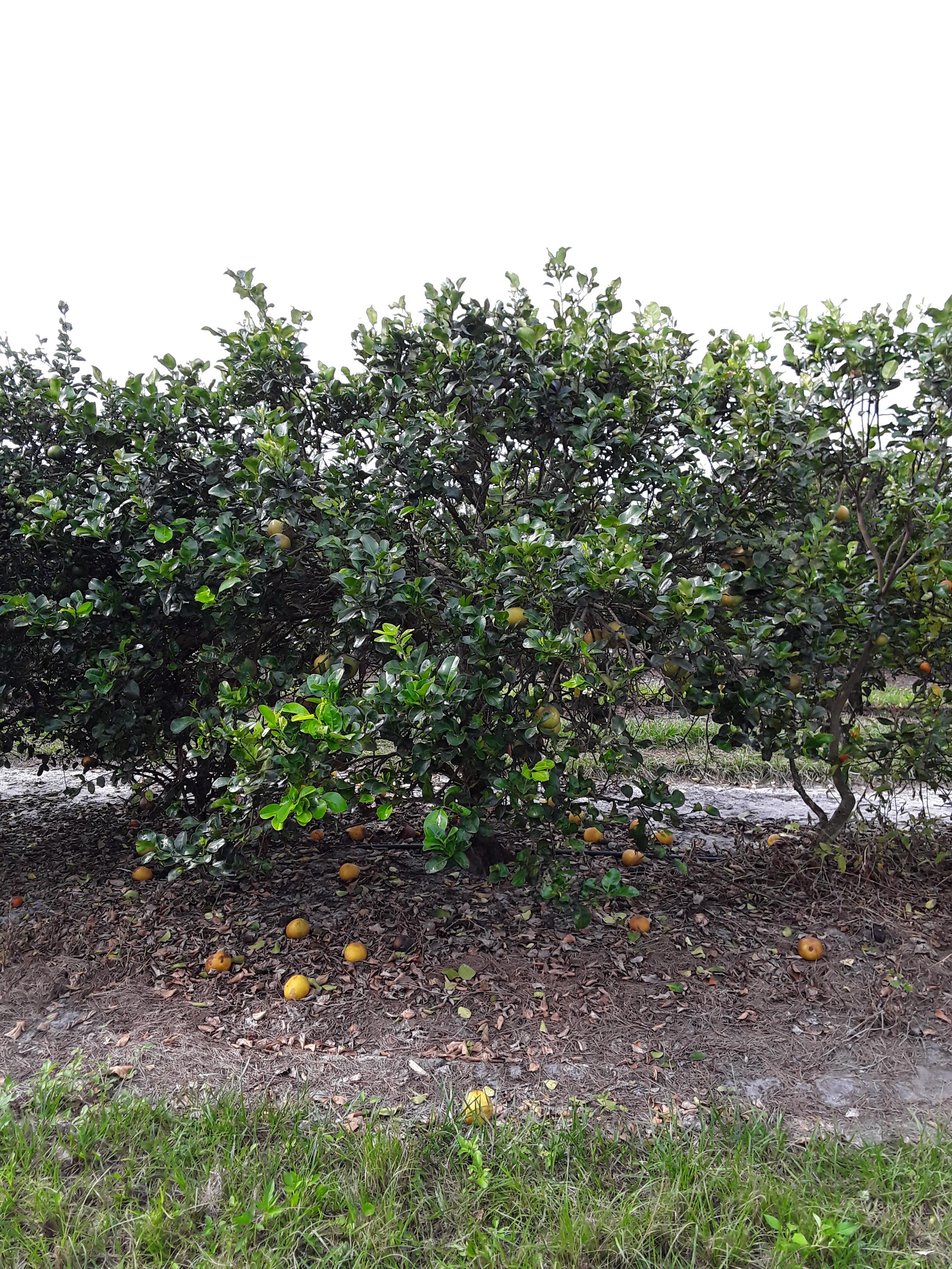fruit_on_ground: (319, 650, 358, 681), (725, 544, 758, 572), (603, 619, 631, 648), (532, 704, 561, 732), (534, 713, 563, 740), (582, 627, 610, 653), (311, 650, 337, 677), (503, 603, 530, 629), (715, 586, 744, 608), (505, 739, 531, 762), (268, 530, 293, 553), (663, 678, 688, 700), (659, 655, 681, 678), (263, 516, 287, 537), (785, 671, 805, 694), (832, 502, 853, 523), (45, 441, 67, 461), (935, 574, 952, 596), (872, 631, 891, 648), (79, 753, 98, 769), (916, 659, 933, 675), (837, 750, 852, 764)
fruit_on_tree: (460, 1087, 495, 1127), (282, 972, 312, 1002), (795, 933, 825, 963), (203, 947, 233, 975), (283, 915, 312, 942), (342, 939, 369, 964), (626, 911, 653, 935), (336, 860, 360, 882), (621, 846, 644, 868), (133, 838, 159, 857), (390, 932, 413, 953), (346, 822, 370, 842), (130, 864, 154, 884), (869, 922, 890, 944), (582, 824, 605, 844), (565, 808, 586, 828), (396, 823, 418, 842), (653, 827, 675, 846), (541, 792, 560, 811), (307, 825, 327, 843), (626, 815, 643, 832), (138, 795, 155, 811), (765, 831, 782, 847), (9, 893, 24, 909), (128, 817, 141, 829)
